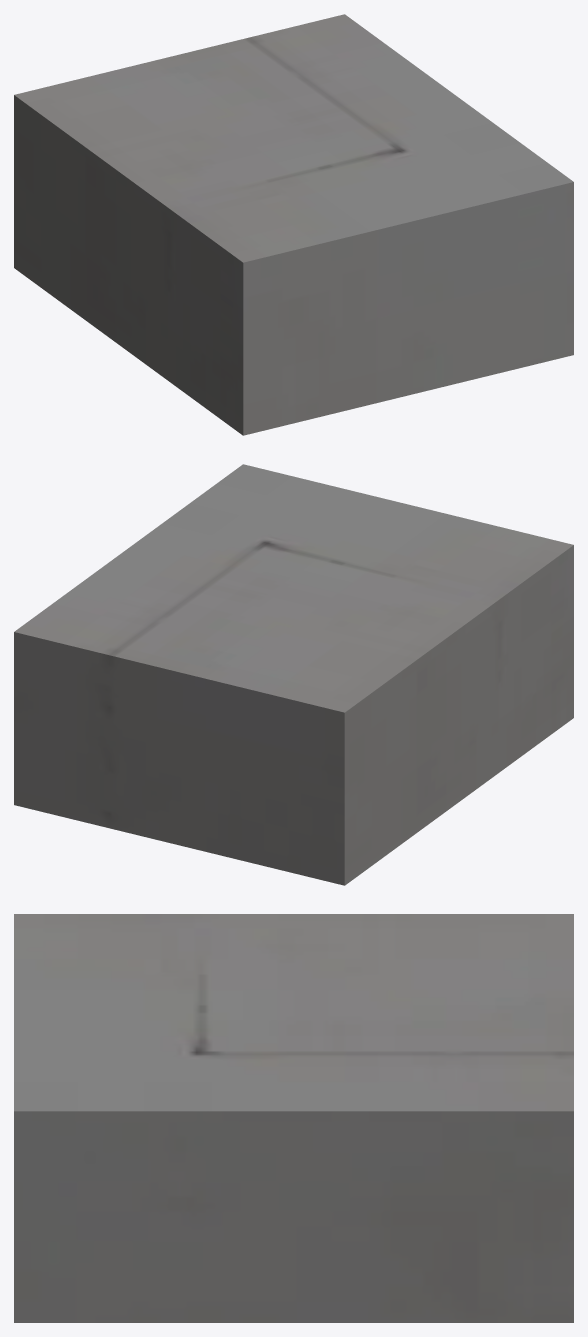
Rendered from frame__rear_riser_1.glb.
3 views of the same model, one above another, from view 1: azimuth 30°, elevation 25°; view 2: azimuth 150°, elevation 25°; view 3: azimuth 270°, elevation 25° (orthographic). The views are drawn at different scales.
Visible parts, largest first — view 1: world; view 2: world; view 3: world.
Boxes of the visible parts, box(x1,y1,x2,y2) form: world: box(14, 14, 573, 435); world: box(14, 464, 573, 885); world: box(14, 914, 573, 1322).
Size of the model in its own units: 0.1 by 0.05 by 0.12.
Materials: 1 (1 with a texture image).
